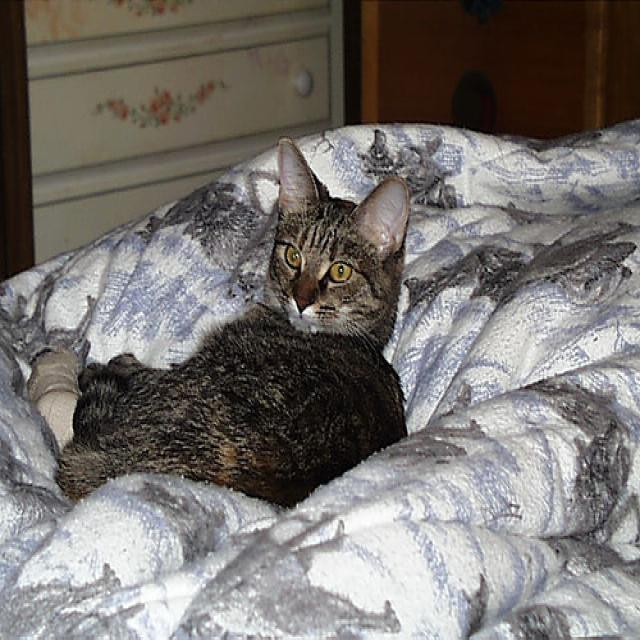cat: (56, 137, 411, 510)
